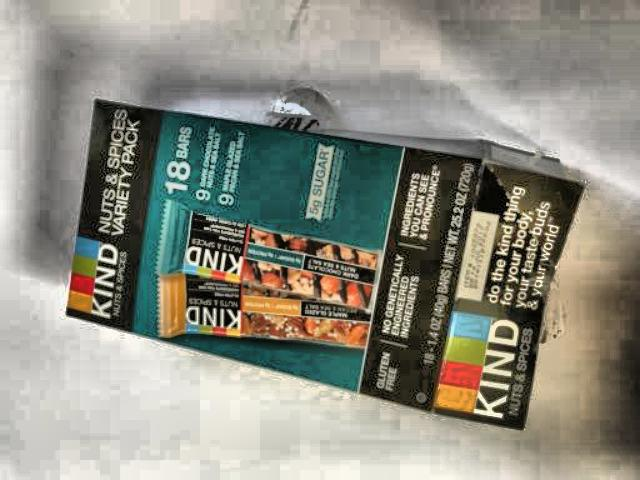Paper: (64, 84, 588, 432)
